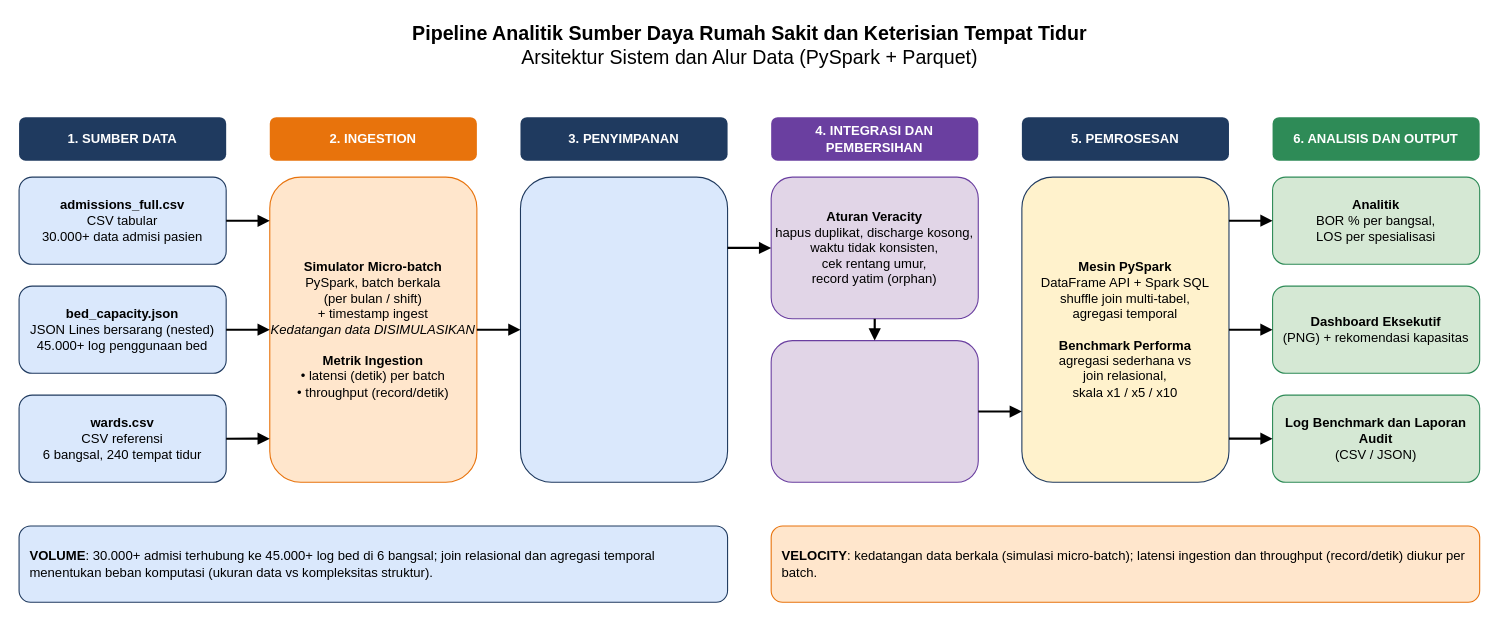
Some shapes in this 1499 by 621 pixel diagram are drawn without their labels. The box of each missing label's shape, as (x1, y1, x2, y2) in pixels:
Normalisasi Skema flatten JSON + join CSV (dataset terintegrasi): (770, 340, 978, 482)
Parquet Data Lake data/lake/ format kolumnar, terkompresi, skema terjaga: (519, 176, 728, 482)
